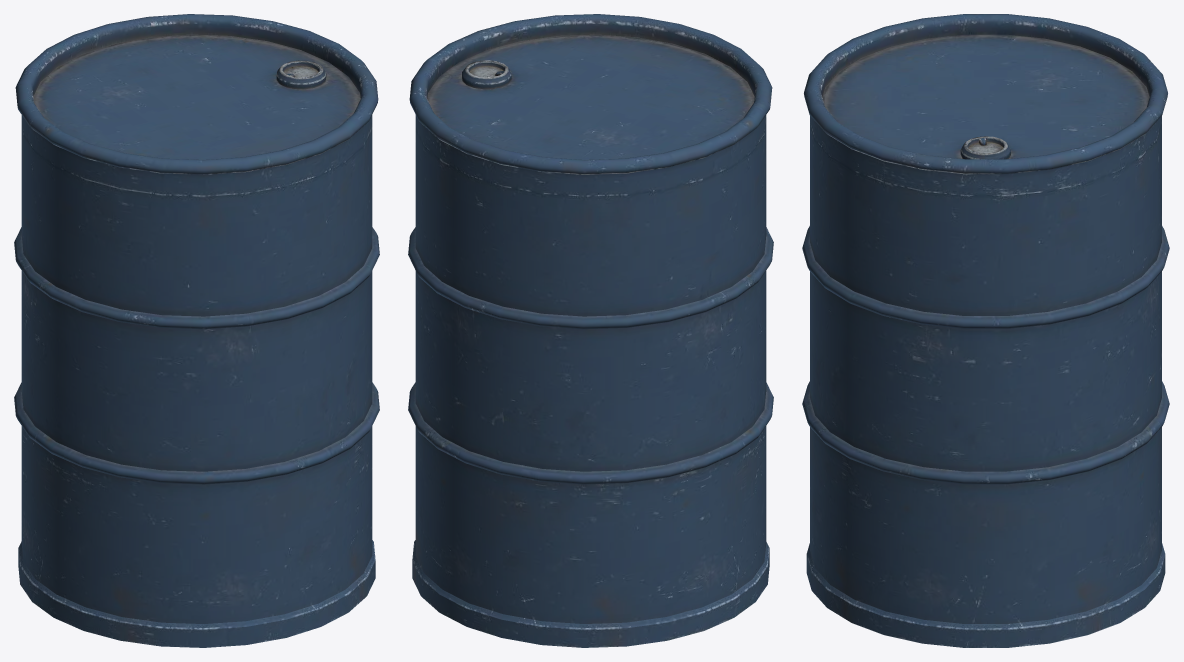
Rendered from ph_barrel_03.glb.
The picture shows the model from 3 angles, left to right: view 1: azimuth 30°, elevation 25°; view 2: azimuth 150°, elevation 25°; view 3: azimuth 270°, elevation 25°; orthographic projection.
Parts seen in each view (by area): view 1: barrel_03; view 2: barrel_03; view 3: barrel_03.
Boxes of the visible parts, <box> form: barrel_03: <box>14,14,379,647</box>; barrel_03: <box>408,14,773,647</box>; barrel_03: <box>802,14,1169,647</box>.
Bounding box in the file's own units: 0.634 × 0.9305 × 0.6386.
Materials: 1 (1 with a texture image).
